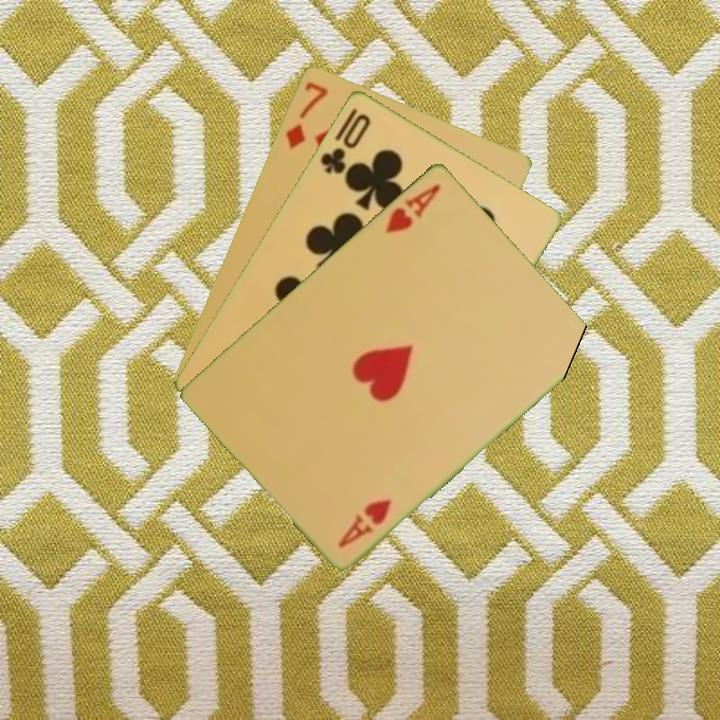10c: (316, 109, 374, 177)
7d: (281, 77, 331, 152)
Ah: (381, 179, 444, 236), (334, 495, 395, 550)
